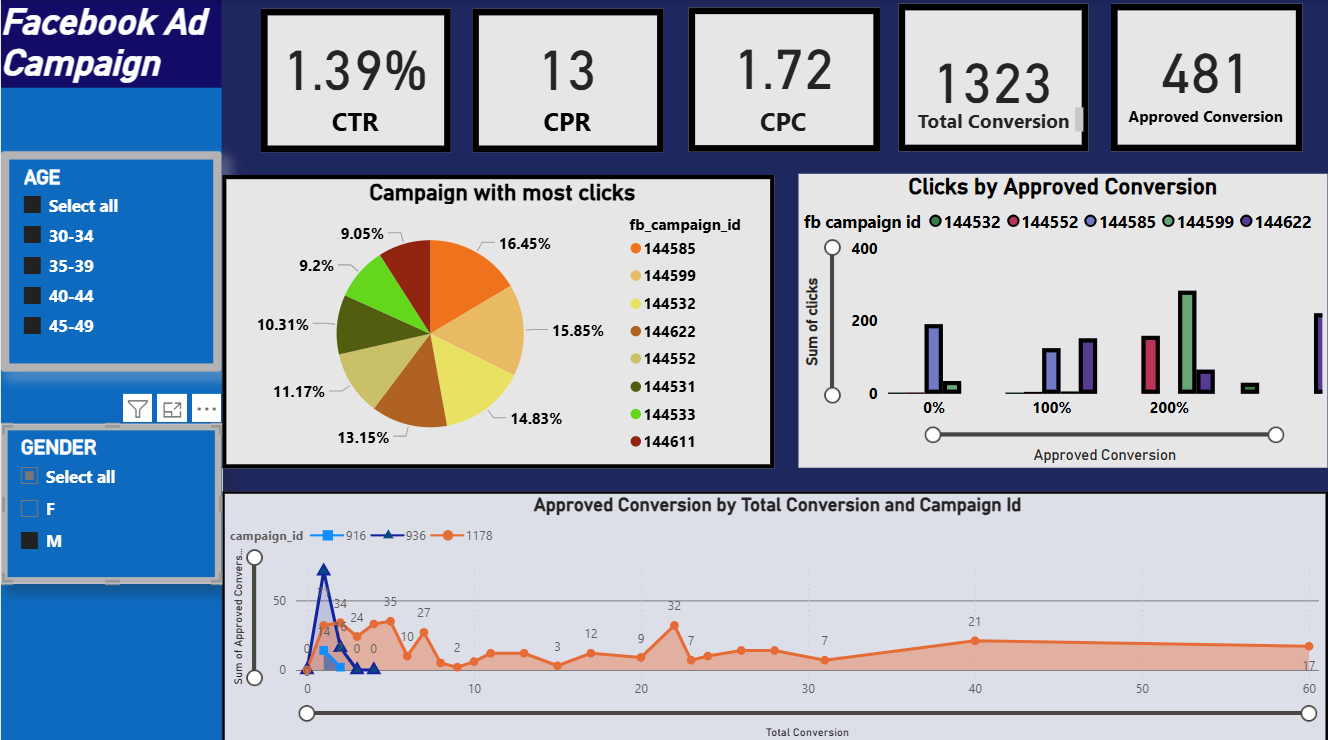

The page's visual inventory and layout, read from the dashboard file:
{"tool":"powerbi","page":{"name":"Page 1","canvas":[1280,720],"ordinal":0},"visuals":[{"type":"shape","title":"Facebook Ad Campaign","box":[0,0,212.7,720.4],"z":0},{"type":"slicer","title":"AGE","fields":{"Values":["data.age"]},"box":[0,146.2,213.2,213.2],"z":1000},{"type":"slicer","fields":{"Values":["data.gender"]},"box":[0,408.5,213.2,154.4],"z":2000},{"type":"lineChart","title":"Approved Conversion by Total Conversion and Campaign Id","fields":{"Category":["data.total_conversion"],"Y":["data.approved_conversion"],"Series":["data.campaign_id"]},"box":[213.2,474.1,1067.1,245.9],"z":3000},{"type":"card","fields":{"Values":["data.CPC"]},"box":[664.1,6.8,184.5,139.4],"z":4000},{"type":"card","fields":{"Values":["data.CTR"]},"box":[251.4,8.2,183.1,138],"z":5000},{"type":"card","fields":{"Values":["data.CPR"]},"box":[455,8.2,184.5,138],"z":6000},{"type":"card","fields":{"Values":["data.total_conversion"]},"box":[866.3,4.1,183.1,142.1],"z":7000},{"type":"card","fields":{"Values":["data.approved_conversion"]},"box":[1071.2,4.1,184.5,142.1],"z":8000},{"type":"pieChart","title":"Campaign with most clicks","fields":{"Y":["data.clicks"],"Category":["data.fb_campaign_id"]},"box":[213.2,169.4,532.9,282.8],"z":8001},{"type":"clusteredColumnChart","title":"Clicks by Approved Conversion","fields":{"Category":["data.approved_conversion"],"Y":["data.clicks"],"Series":["data.fb_campaign_id"]},"box":[769.7,167.7,510.3,283.5],"z":8002},{"type":"textbox","box":[875.8,98.4,173.5,34.2],"z":8003}]}

Visuals, with their boxes in screenshot pixels (x1, y1, x2, y2), scaled from the page's 1280x720 canvas onto the 1328x740 screenshot:
"Facebook Ad Campaign" shape: select_region(0, 0, 221, 739)
"AGE" slicer: select_region(0, 150, 221, 369)
slicer - data.gender: select_region(0, 420, 221, 579)
"Approved Conversion by Total Conversion and Campaign Id" lineChart: select_region(221, 487, 1327, 739)
card - data.CPC: select_region(689, 7, 880, 150)
card - data.CTR: select_region(261, 8, 451, 150)
card - data.CPR: select_region(472, 8, 663, 150)
card - data.total_conversion: select_region(899, 4, 1089, 150)
card - data.approved_conversion: select_region(1111, 4, 1303, 150)
"Campaign with most clicks" pieChart: select_region(221, 174, 774, 465)
"Clicks by Approved Conversion" clusteredColumnChart: select_region(799, 172, 1327, 464)
textbox: select_region(909, 101, 1089, 136)
